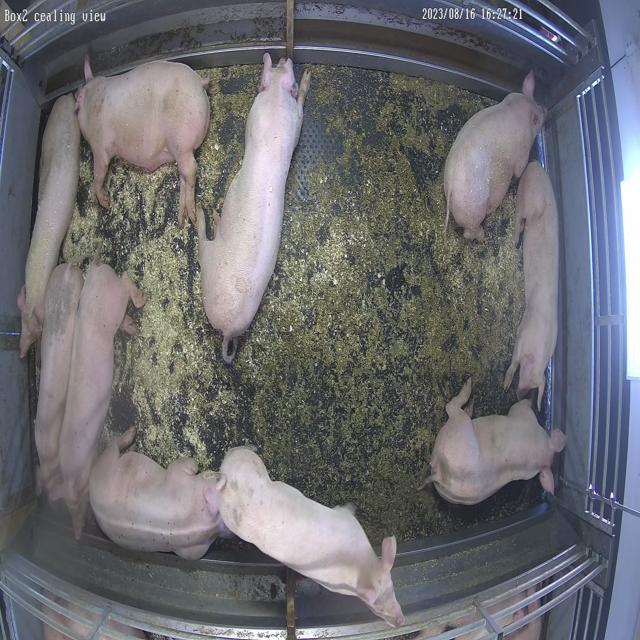Dirt: (229, 66, 535, 542), (196, 65, 259, 238)
Pig: (199, 54, 310, 363), (220, 448, 405, 628), (58, 262, 144, 538), (76, 57, 210, 226), (89, 428, 227, 561), (431, 380, 567, 506), (17, 93, 80, 358), (447, 71, 545, 240), (506, 161, 560, 410), (34, 263, 83, 502)
